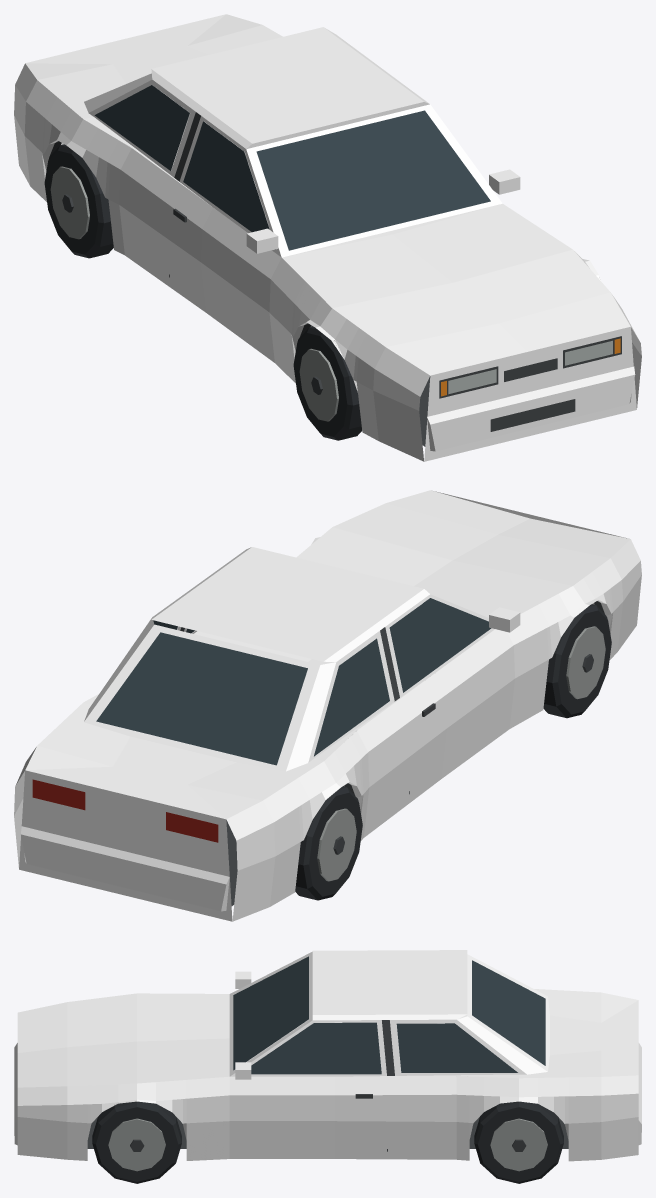
File: calderwood_quarry.glb
The picture shows the model from 3 angles, top to bottom: view 1: azimuth 30°, elevation 25°; view 2: azimuth 150°, elevation 25°; view 3: azimuth 270°, elevation 25°; orthographic projection. The views are drawn at different scales.
Visible parts, largest first — view 1: calderwood_quarry; view 2: calderwood_quarry; view 3: calderwood_quarry.
Part boxes in pixels (x1,y1,x2,y2): calderwood_quarry: (14,14,641,461); calderwood_quarry: (14,490,641,921); calderwood_quarry: (14,950,641,1183).
Bounding box in the file's own units: 1.82 × 1.27 × 4.7.
8 materials, 1 textured.
